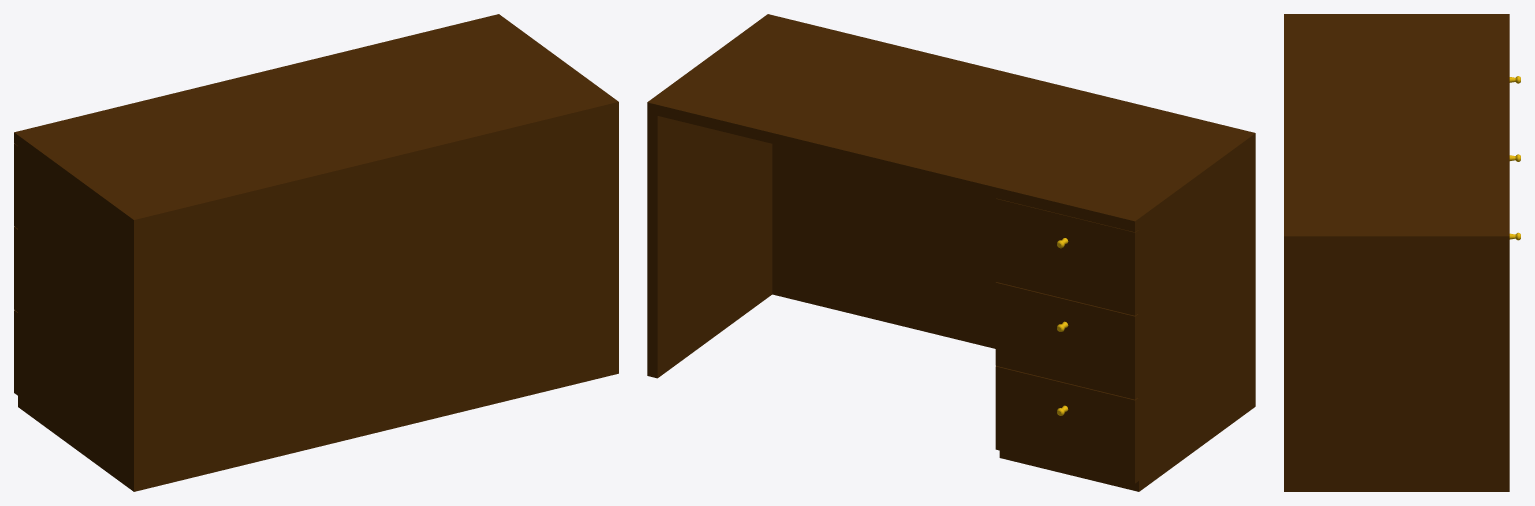
Rendered from three_drawer_desk.dae.
3 renders of one model, left to right at view 1: azimuth 30°, elevation 25°; view 2: azimuth 150°, elevation 25°; view 3: azimuth 270°, elevation 25°, orthographic. The views are drawn at different scales.
Parts seen in each view (by area): view 1: three_drawer_desk; view 2: three_drawer_desk; view 3: three_drawer_desk.
Boxes of the visible parts, x1,y1,x2,y2 form: three_drawer_desk: (14, 14, 618, 491); three_drawer_desk: (647, 14, 1255, 491); three_drawer_desk: (1284, 14, 1520, 491).
Size of the model in its own units: 1.4 by 0.63 by 0.75.
